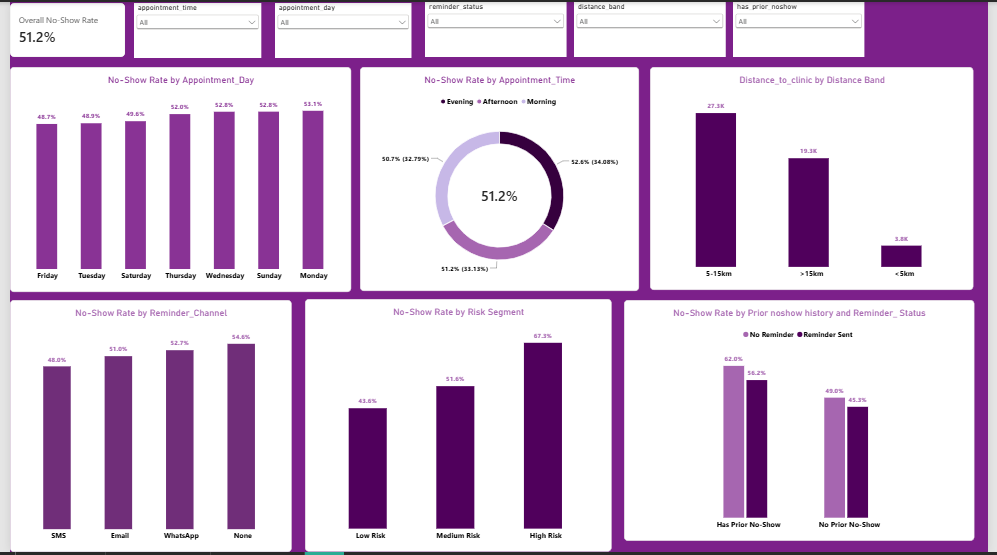

Layout of this report page (visuals, bound fields, positions):
{"tool":"powerbi","page":{"name":"Interactions","canvas":[1920,1080],"ordinal":1},"visuals":[{"type":"clusteredColumnChart","title":"No-Show Rate by Appointment_Day","fields":{"Category":["HealthConnect_Appointment_Data_.appointment_day"],"Y":["Measures (2).No-Show Rate"]},"box":[0,126.7,670,441.7],"z":0},{"type":"donutChart","title":"No-Show Rate by Appointment_Time","fields":{"Category":["HealthConnect_Appointment_Data_.appointment_time"],"Y":["Measures (2).No-Show Rate"]},"box":[687.5,127.5,547.5,440],"z":1000},{"type":"clusteredColumnChart","title":"No-Show Rate by Prior noshow history and Reminder_ Status","fields":{"Category":["HealthConnect_Appointment_Data_.has_prior_noshow"],"Series":["HealthConnect_Appointment_Data_.reminder_status"],"Y":["Measures (2).No-Show Rate"]},"box":[1205,585,687.5,472.5],"z":3000},{"type":"clusteredColumnChart","title":"No-Show Rate by Reminder_Channel","fields":{"Category":["HealthConnect_Appointment_Data_.reminder_channel"],"Y":["Measures (2).No-Show Rate"]},"box":[0,585,552.5,495],"z":3001},{"type":"clusteredColumnChart","title":"No-Show Rate by Risk Segment","fields":{"Category":["HealthConnect_Appointment_Data_.risk_segment"],"Y":["Measures (2).No-Show Rate"]},"box":[579.7,584.1,601.7,495.9],"z":3002},{"type":"clusteredColumnChart","title":"Distance_to_clinic by Distance Band","fields":{"Category":["HealthConnect_Appointment_Data_.distance_band"],"Y":["Sum(HealthConnect_Appointment_Data_.distance_to_clinic_km)"]},"box":[1257.5,127.5,635,437.5],"z":3004},{"type":"cardVisual","fields":{"Data":["Measures (2).Overall No-Show Rate"]},"box":[0,2,226,106],"z":3005},{"type":"slicer","fields":{"Values":["HealthConnect_Appointment_Data_.reminder_status"]},"box":[814,0,278,108],"z":3007},{"type":"slicer","fields":{"Values":["HealthConnect_Appointment_Data_.distance_band"]},"box":[1108,0,298,108],"z":3008},{"type":"slicer","fields":{"Values":["HealthConnect_Appointment_Data_.has_prior_noshow"]},"box":[1420,0,258,108],"z":3009},{"type":"slicer","fields":{"Values":["HealthConnect_Appointment_Data_.appointment_day"]},"box":[520,2,268,108],"z":3010},{"type":"slicer","fields":{"Values":["HealthConnect_Appointment_Data_.appointment_time"]},"box":[244,2,250,107.5],"z":3011}]}

Visuals, with their boxes in screenshot pixels (x1, y1, x2, y2), scaled from the page's 1920x1080 canvas onto the 997x555 screenshot:
"No-Show Rate by Appointment_Day" clusteredColumnChart: l=0, t=65, r=348, b=292
"No-Show Rate by Appointment_Time" donutChart: l=357, t=66, r=641, b=292
"No-Show Rate by Prior noshow history and Reminder_ Status" clusteredColumnChart: l=626, t=301, r=983, b=543
"No-Show Rate by Reminder_Channel" clusteredColumnChart: l=0, t=301, r=287, b=554
"No-Show Rate by Risk Segment" clusteredColumnChart: l=301, t=300, r=613, b=554
"Distance_to_clinic by Distance Band" clusteredColumnChart: l=653, t=66, r=983, b=290
cardVisual - Measures (2).Overall No-Show Rate: l=0, t=1, r=117, b=55
slicer - HealthConnect_Appointment_Data_.reminder_status: l=423, t=0, r=567, b=55
slicer - HealthConnect_Appointment_Data_.distance_band: l=575, t=0, r=730, b=55
slicer - HealthConnect_Appointment_Data_.has_prior_noshow: l=737, t=0, r=871, b=55
slicer - HealthConnect_Appointment_Data_.appointment_day: l=270, t=1, r=409, b=57
slicer - HealthConnect_Appointment_Data_.appointment_time: l=127, t=1, r=257, b=56
